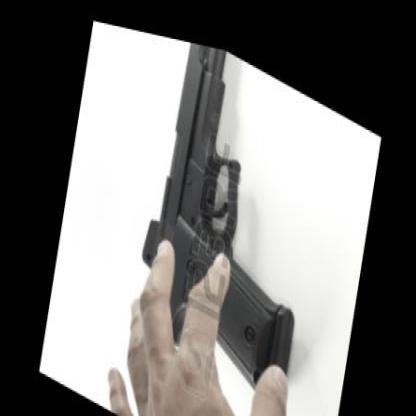pistol: (123, 21, 333, 412)
